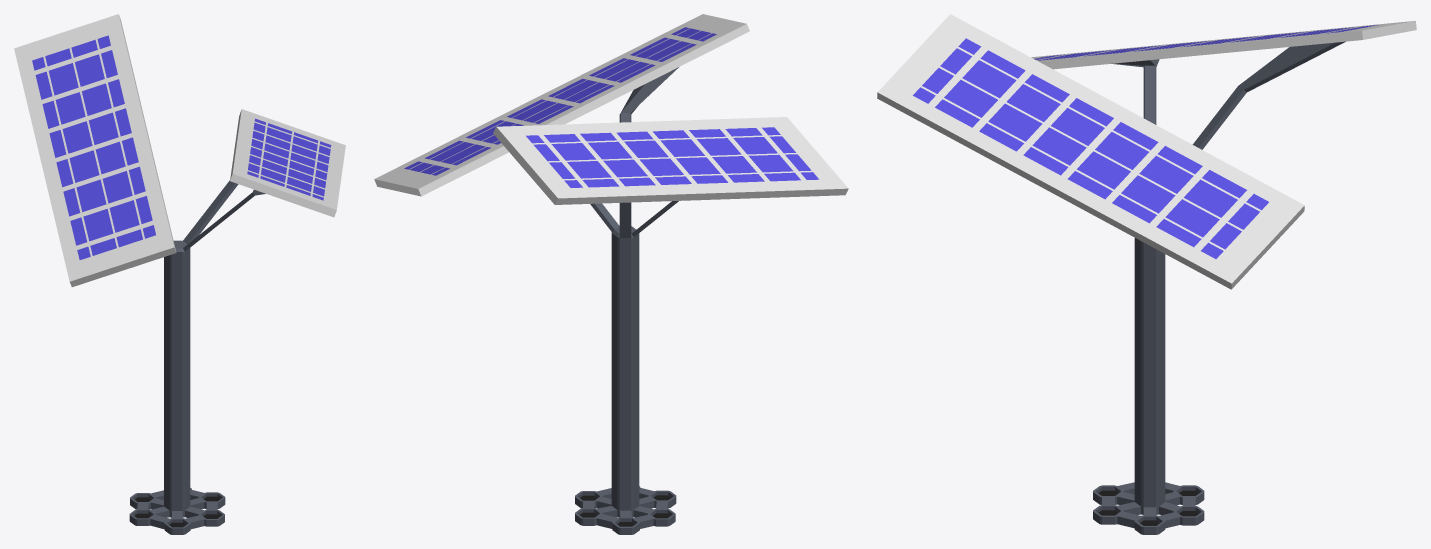
The model's file is solarPanel.fbx.
3 renders of one model, left to right at view 1: azimuth 30°, elevation 25°; view 2: azimuth 150°, elevation 25°; view 3: azimuth 270°, elevation 25°, orthographic. The views are drawn at different scales.
Parts seen in each view (by area): view 1: HoneyComb.001; view 2: HoneyComb.001; view 3: HoneyComb.001.
Boxes of the visible parts, box(x1,y1,x2,y2) form: HoneyComb.001: box(14, 14, 345, 534); HoneyComb.001: box(374, 14, 848, 534); HoneyComb.001: box(877, 14, 1416, 534).
Size of the model in its own units: 1690 by 1887 by 1858.
